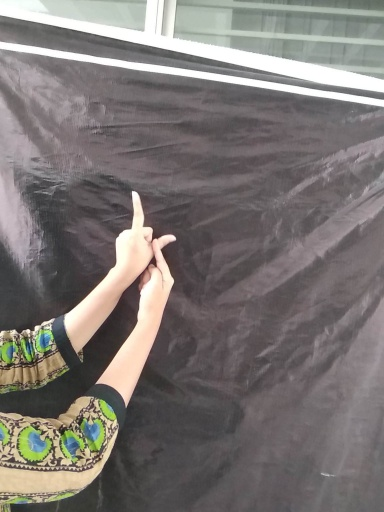dh: (110, 187, 182, 321)
